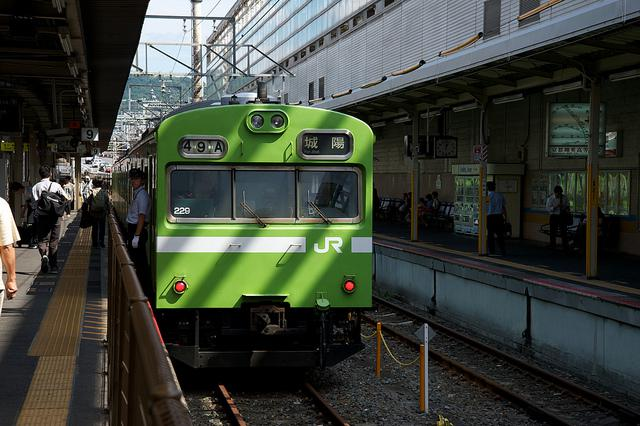Train: (110, 81, 376, 384)
